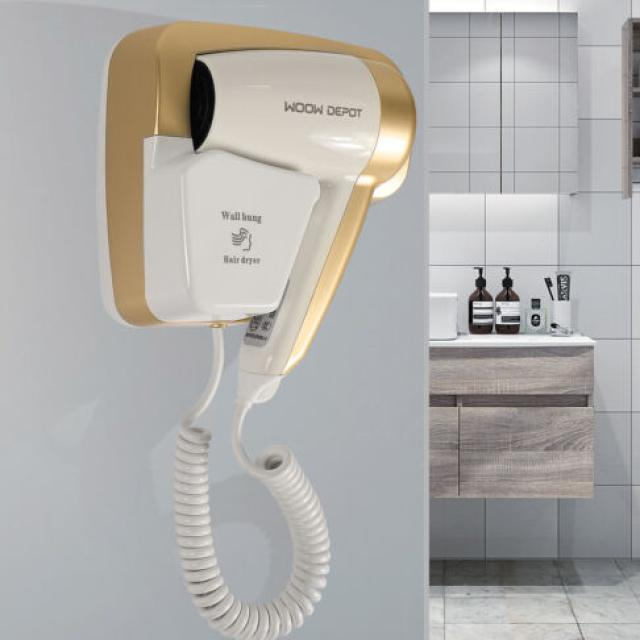dryer: (96, 12, 423, 640), (123, 28, 390, 420)
